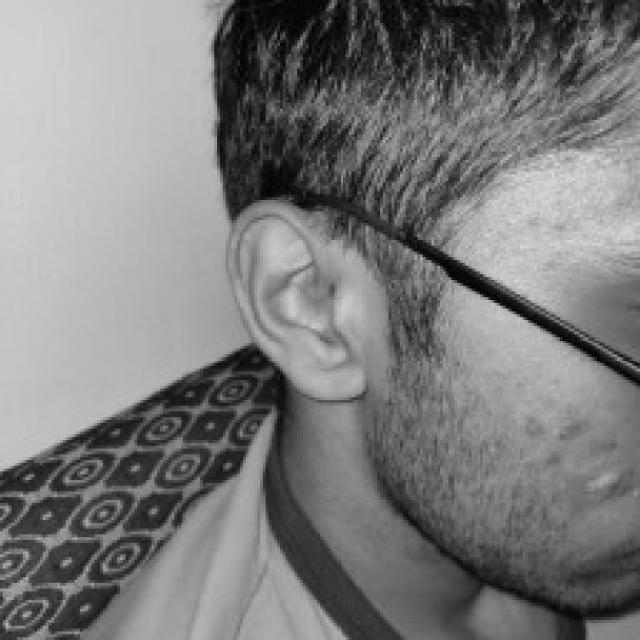ear: (226, 200, 366, 400)
